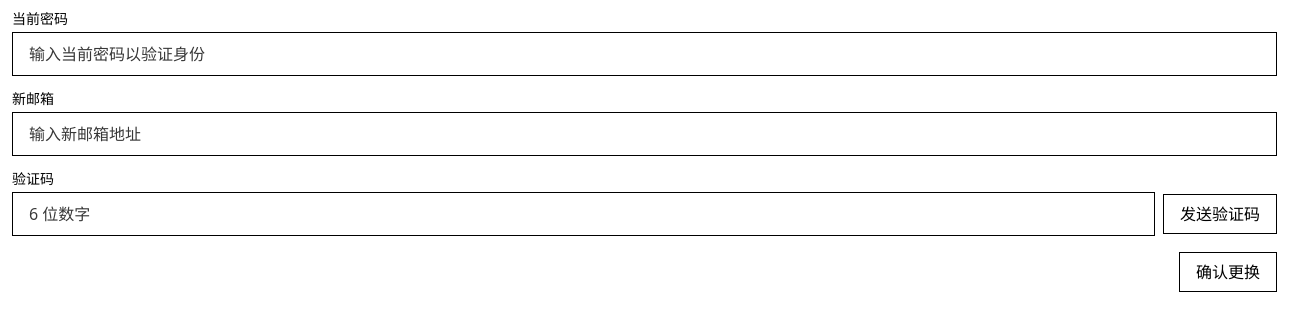
Test: 发码业务错误 40116 映射到对应字段
Type "CurrentPass123" into the password field with id "change-old-password".
click(644, 54); type("CurrentPass123")  # box x1=12 y1=32 x2=1277 y2=76
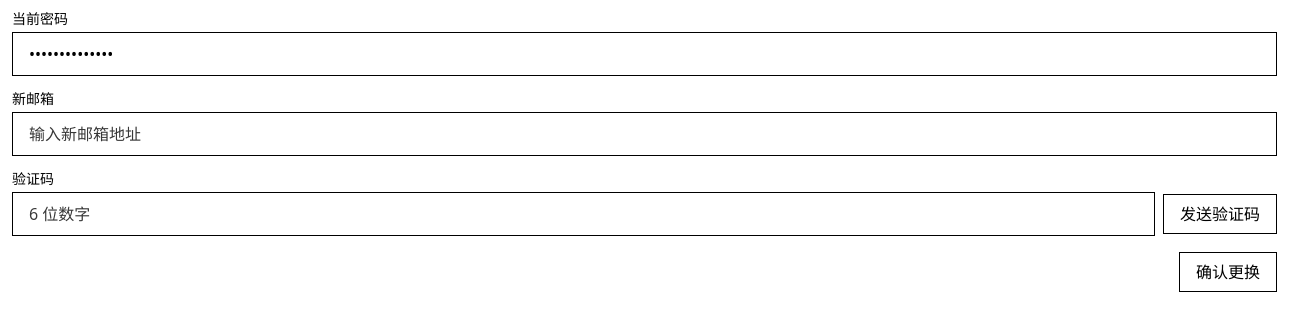
Type "new@example.com" into the field with id "new-email".
click(644, 134); type("new@example.com")  # box x1=12 y1=112 x2=1277 y2=156
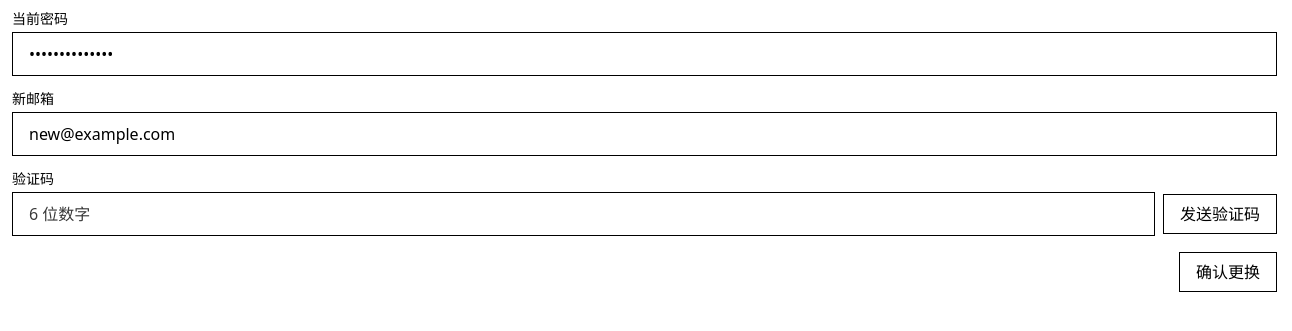
Click the button "发送验证码".
click(1220, 214)  # box x1=1163 y1=194 x2=1277 y2=234
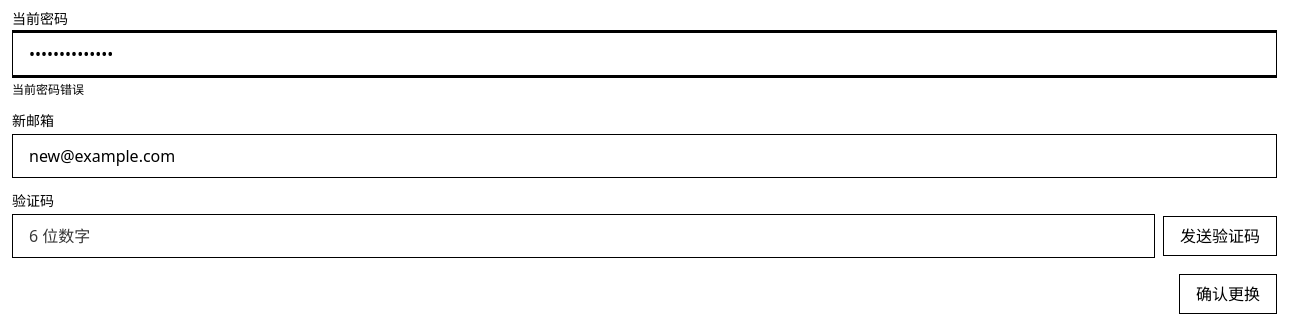
Expected: the text "当前密码错误" is shown, x1=12 y1=81 x2=84 y2=98
